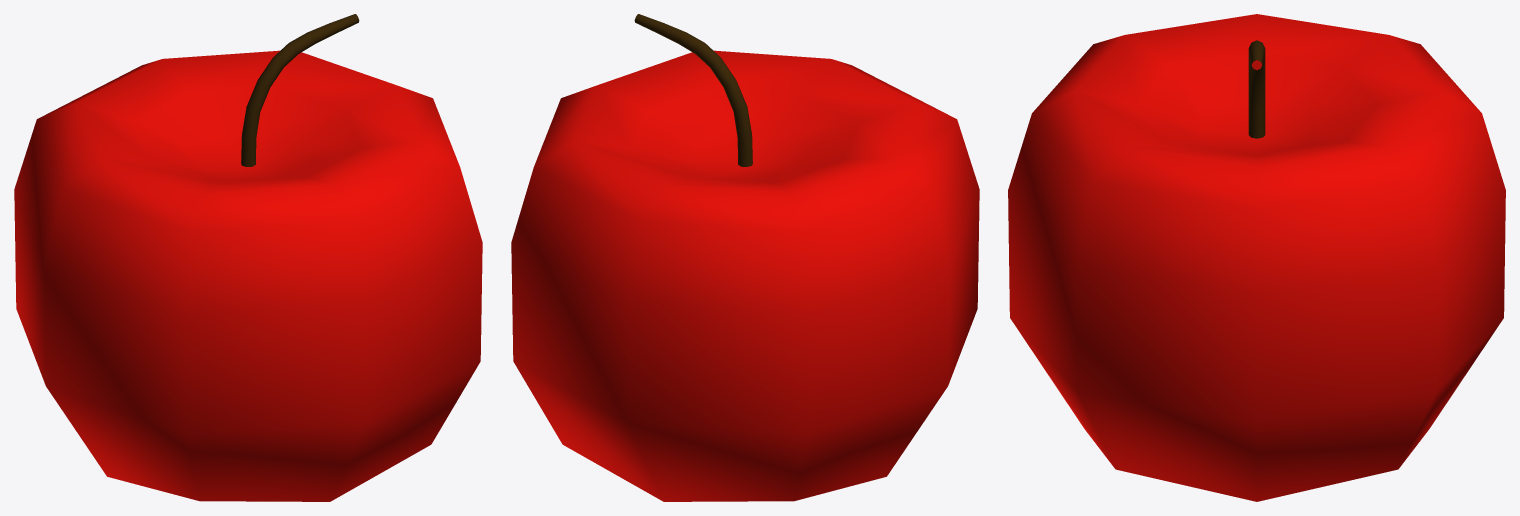
The model's file is Character_Rooms_Apple.fbx.
3 renders of one model, left to right at view 1: azimuth 30°, elevation 25°; view 2: azimuth 150°, elevation 25°; view 3: azimuth 270°, elevation 25°, orthographic. The views are drawn at different scales.
Parts seen in each view (by area): view 1: Cube.012; view 2: Cube.012; view 3: Cube.012.
Boxes of the visible parts, x1=… form: Cube.012: x1=14, y1=14, x2=482, y2=501; Cube.012: x1=511, y1=14, x2=979, y2=501; Cube.012: x1=1008, y1=14, x2=1505, y2=501.
Bounding box in the file's own units: 27.13 × 27.96 × 27.13.
